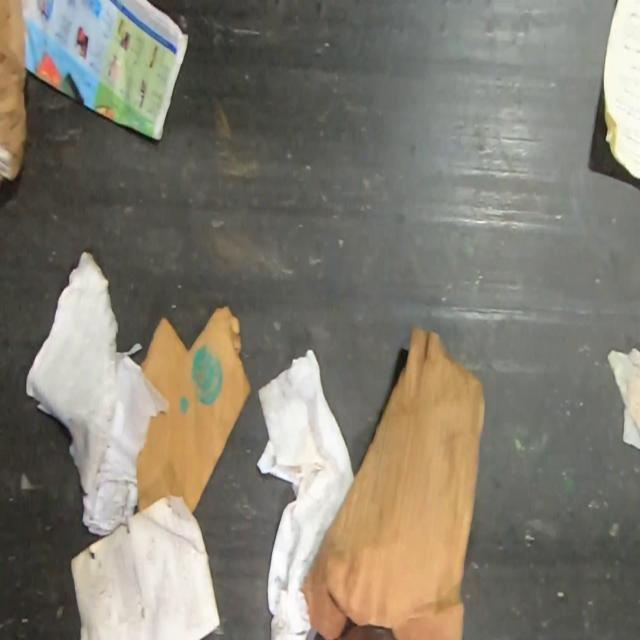cardboard: (297, 321, 487, 640), (135, 302, 254, 514), (0, 0, 29, 183)
